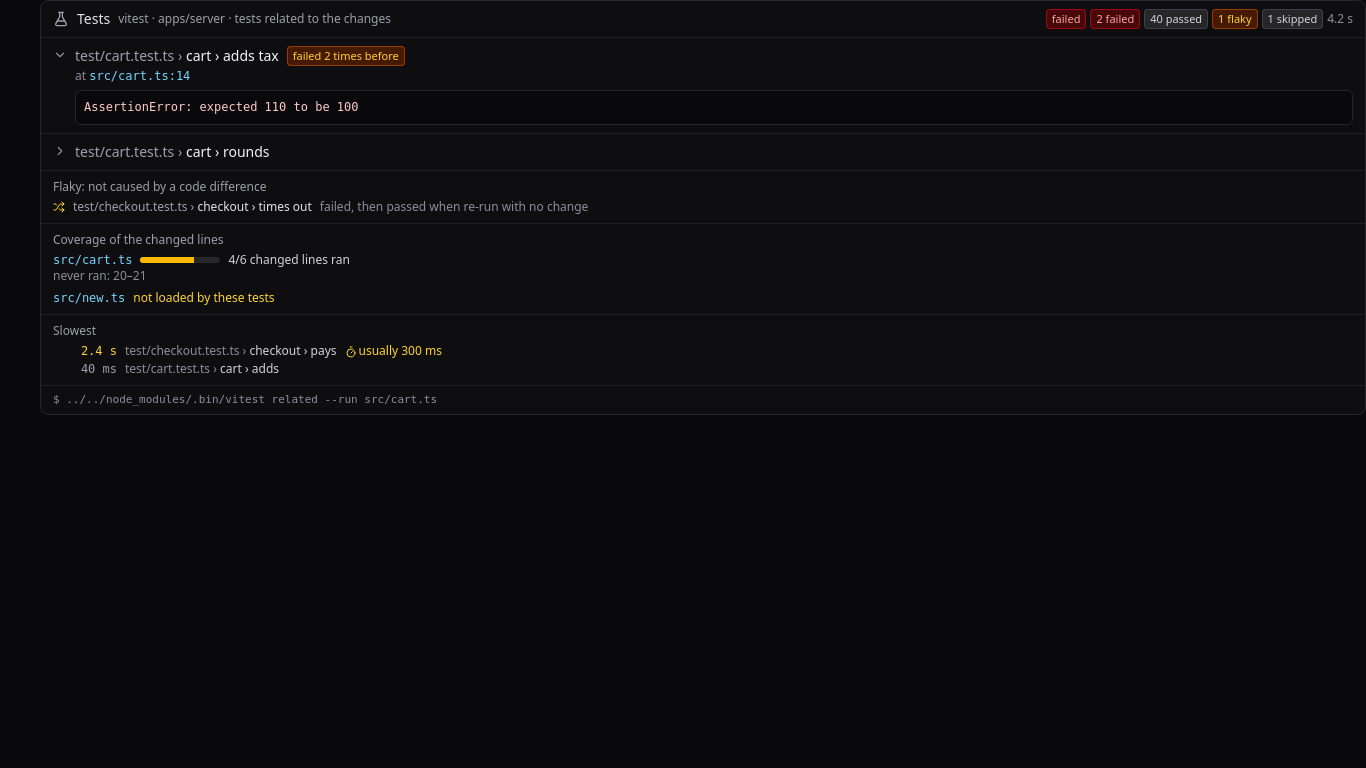
test run card › opens the file at the failure’s line
Click the button "src/cart.ts:14".
click(140, 76)  # box [89,68,190,84]
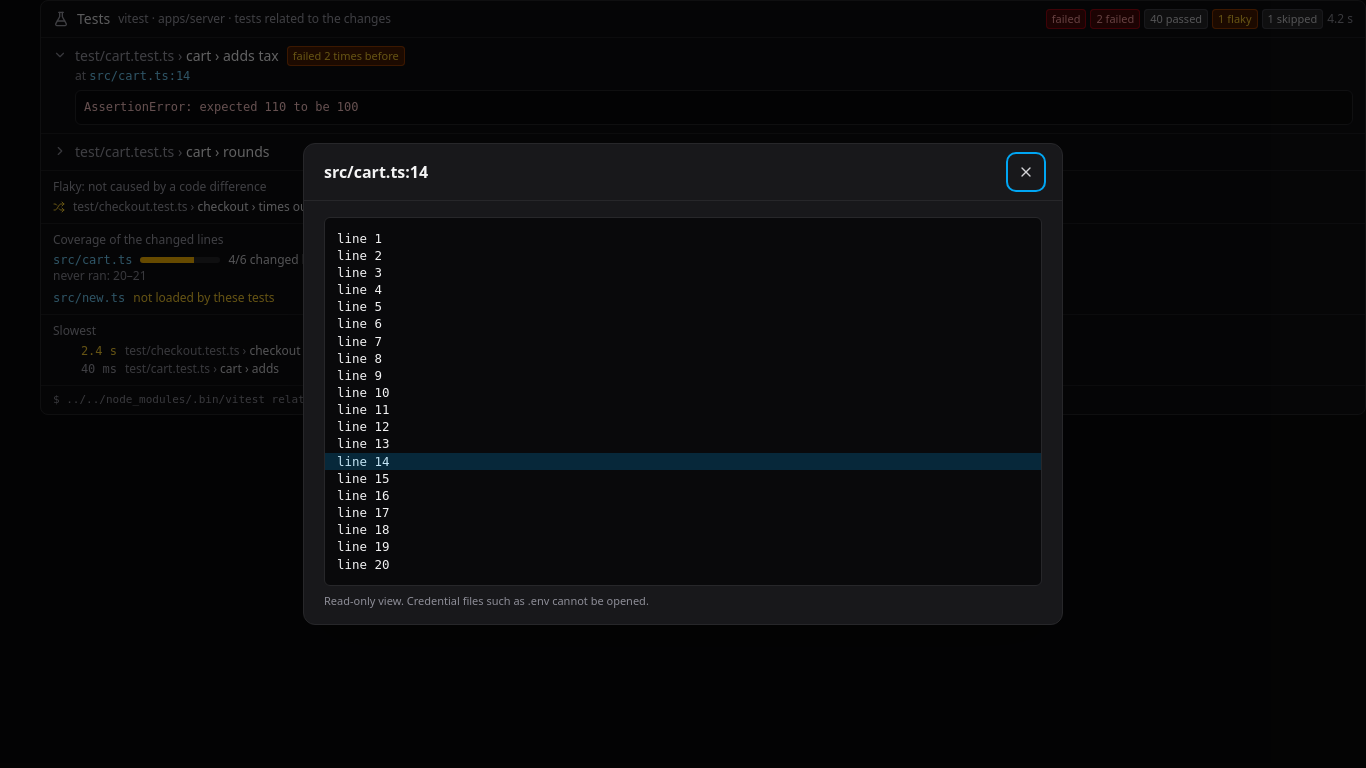
Check: the heading "src/cart.ts:14" is shown, box [324,160,428,184]
Check: the element with test id "line-mark" is shown, box [325,453,1041,470]
